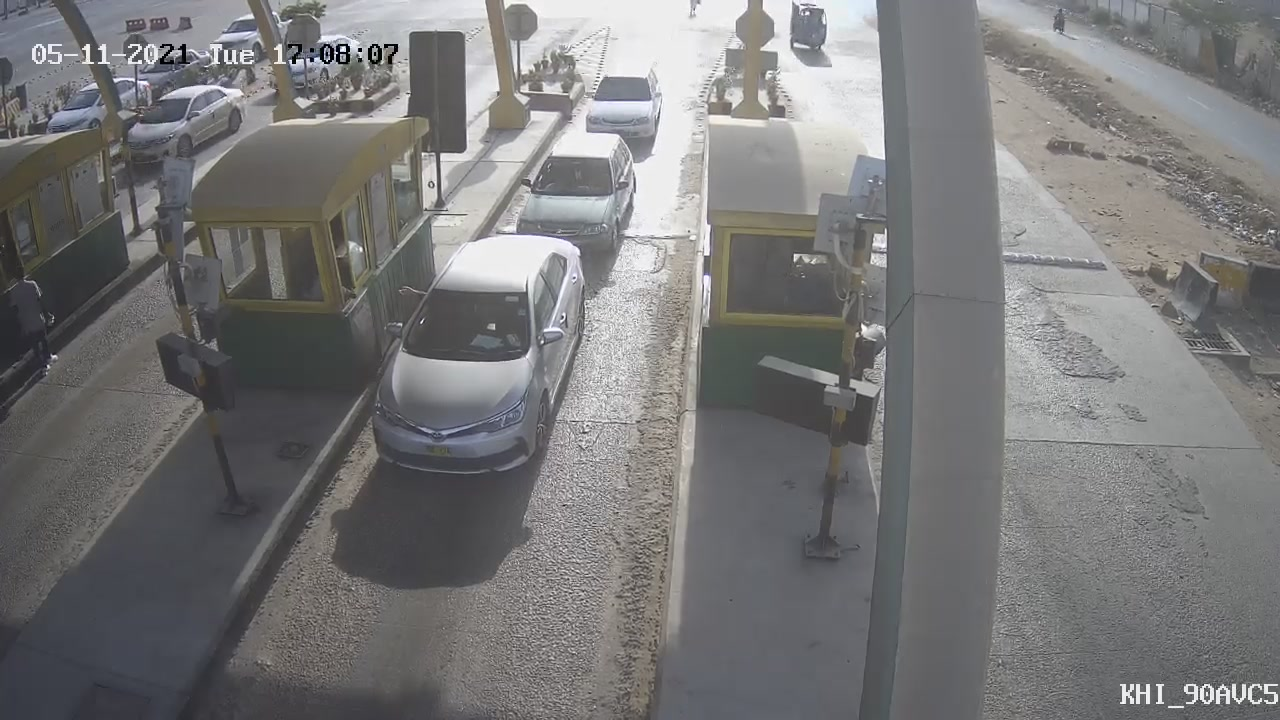F1: (340, 217, 607, 499), (504, 112, 653, 272), (569, 53, 672, 161)
